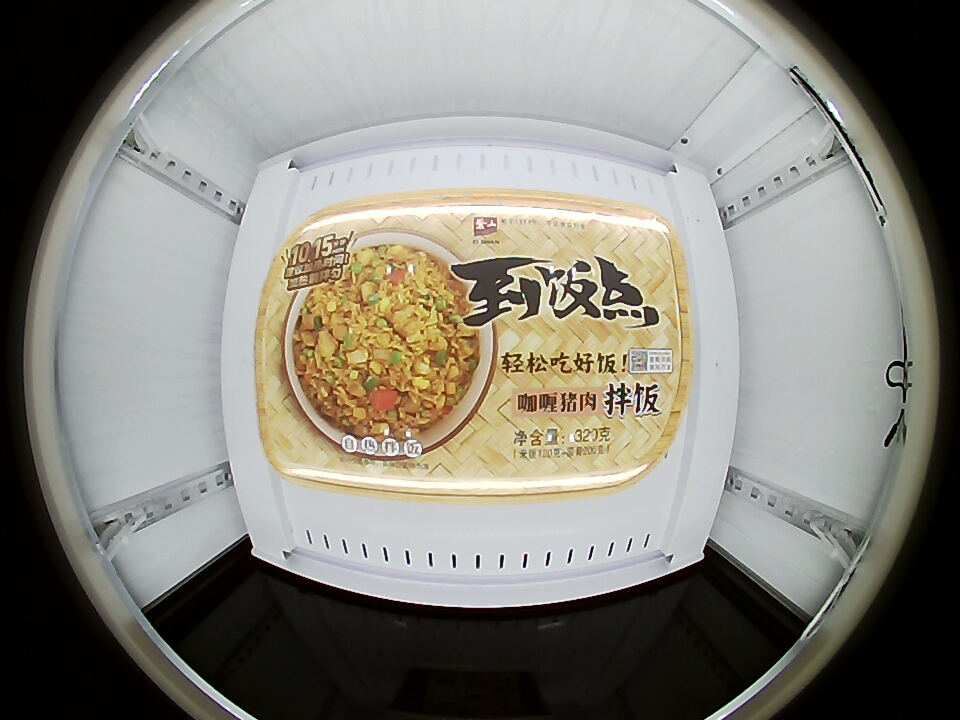daofandian3: (250, 190, 695, 500)
